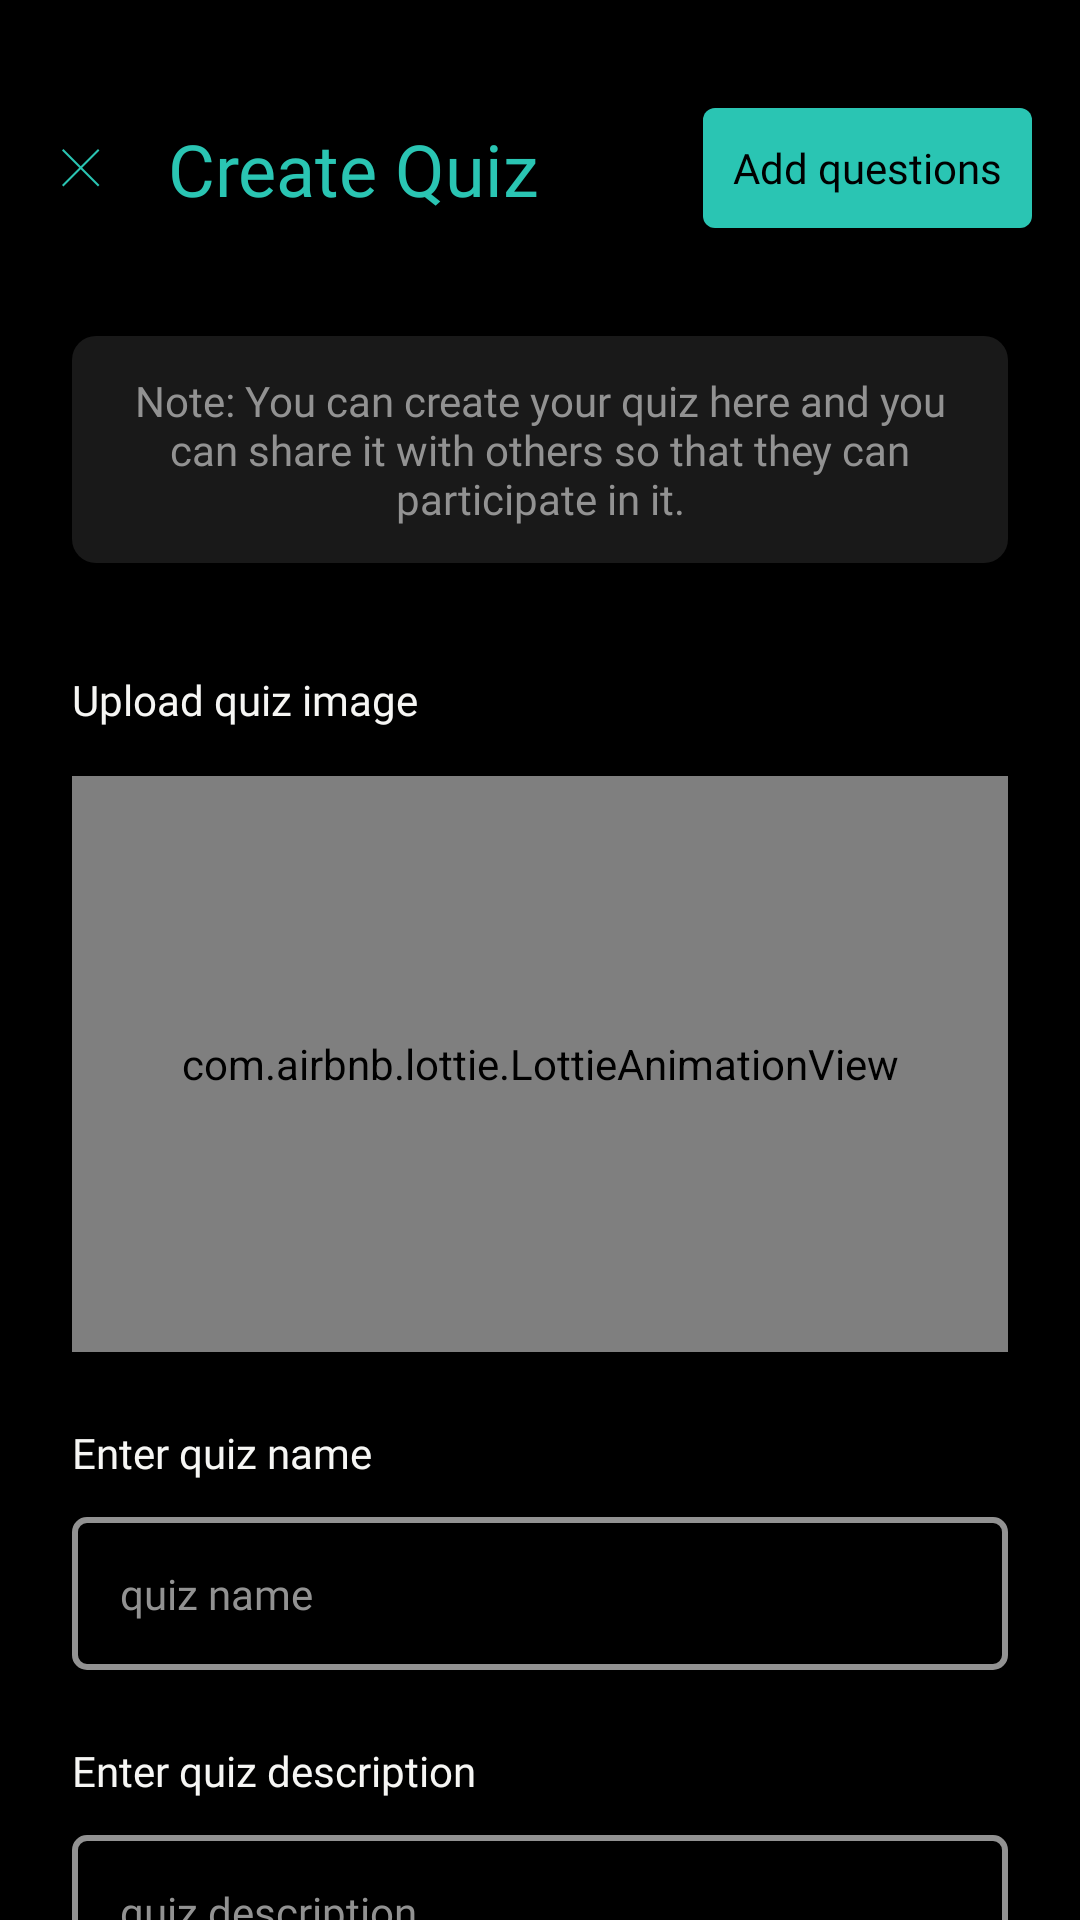

Icons on this 1080x1920 Android screen, each with its box as [x1, y1, x2, y2]:
quiz close: [62, 149, 100, 187]
